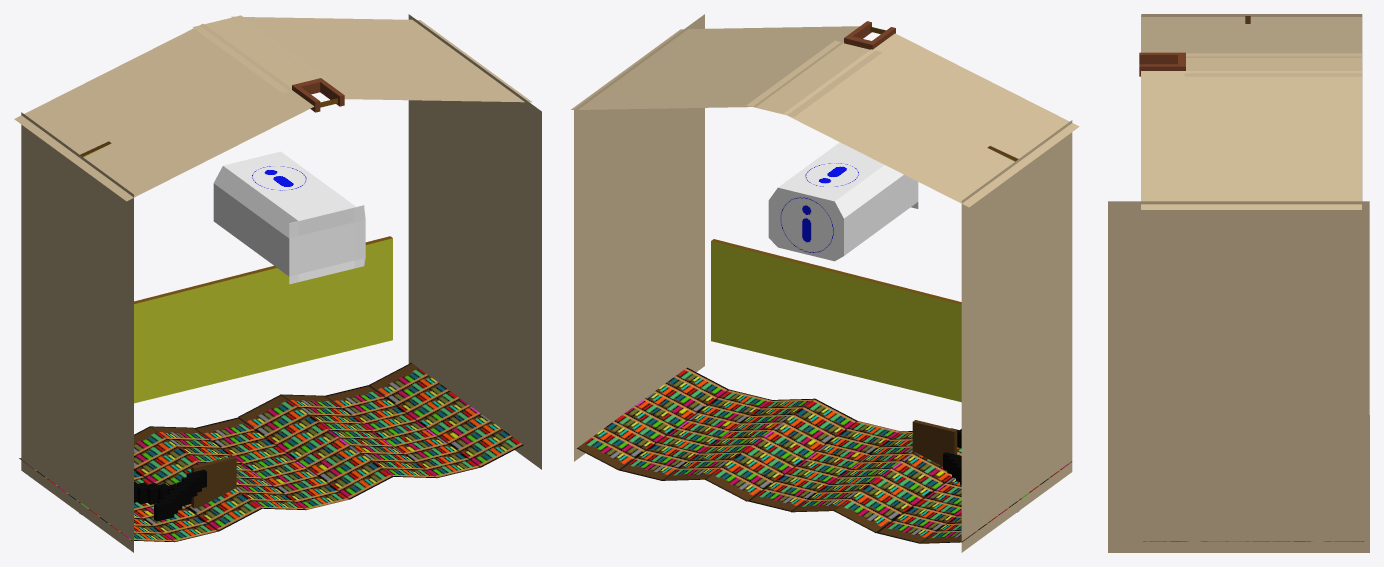
File: SelectStage.fbx
The picture shows the model from 3 angles, left to right: view 1: azimuth 30°, elevation 25°; view 2: azimuth 150°, elevation 25°; view 3: azimuth 270°, elevation 25°; orthographic projection.
Visible parts, largest first — view 1: Info; view 2: Info; view 3: Info.
Part boxes in pixels (x1=…): Info: x1=14, y1=14, x2=541, y2=552; Info: x1=571, y1=14, x2=1079, y2=552; Info: x1=1108, y1=14, x2=1369, y2=552.
Size of the model in its own units: 83.34 by 79.99 by 47.42.
1 material, 1 textured.
